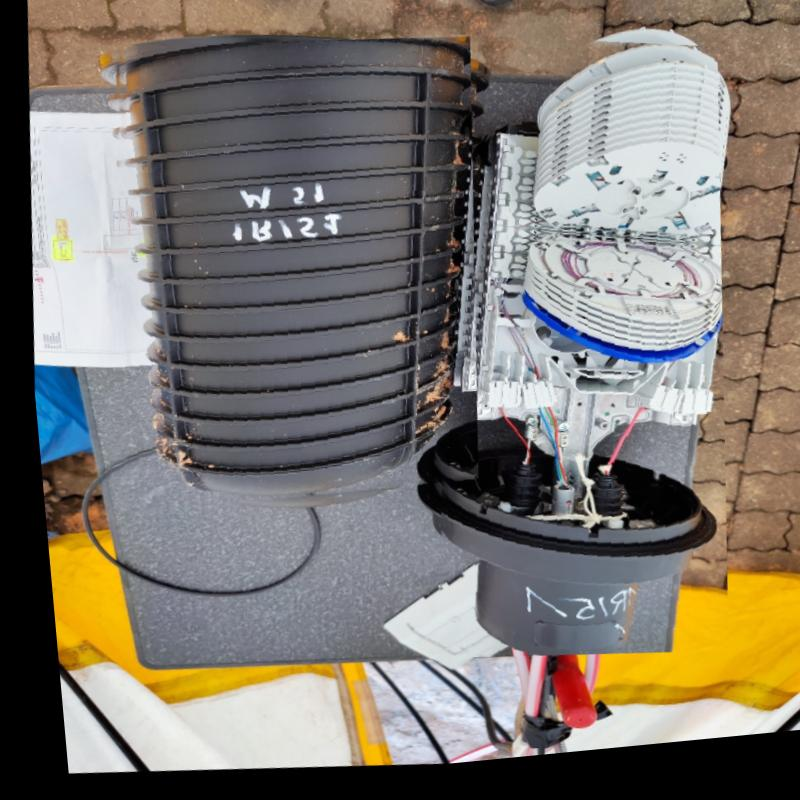NT-Muffen: (381, 21, 758, 686), (75, 20, 501, 541)
